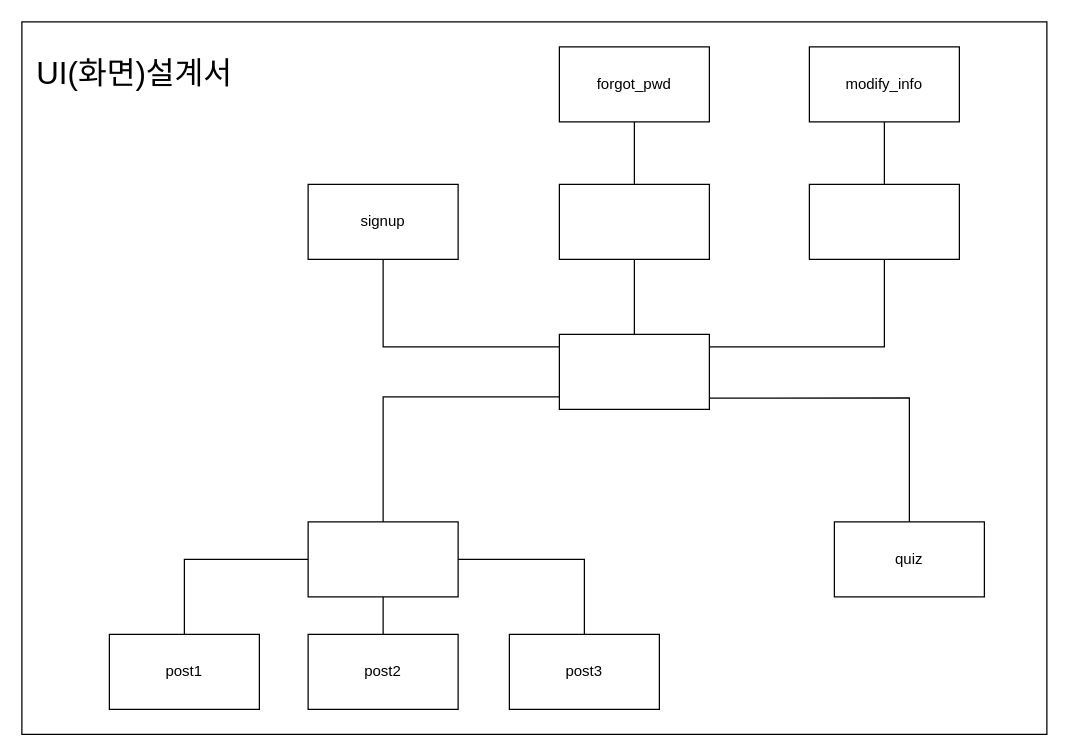
Image size: 1069x756. Some labels were removed from this diagram. Here are the shapes that lost their labels. From the top down, the box of each, then its label:
(558, 183, 709, 259): login
(808, 183, 959, 259): myinfo
(558, 333, 709, 409): main
(307, 521, 458, 597): list_board
